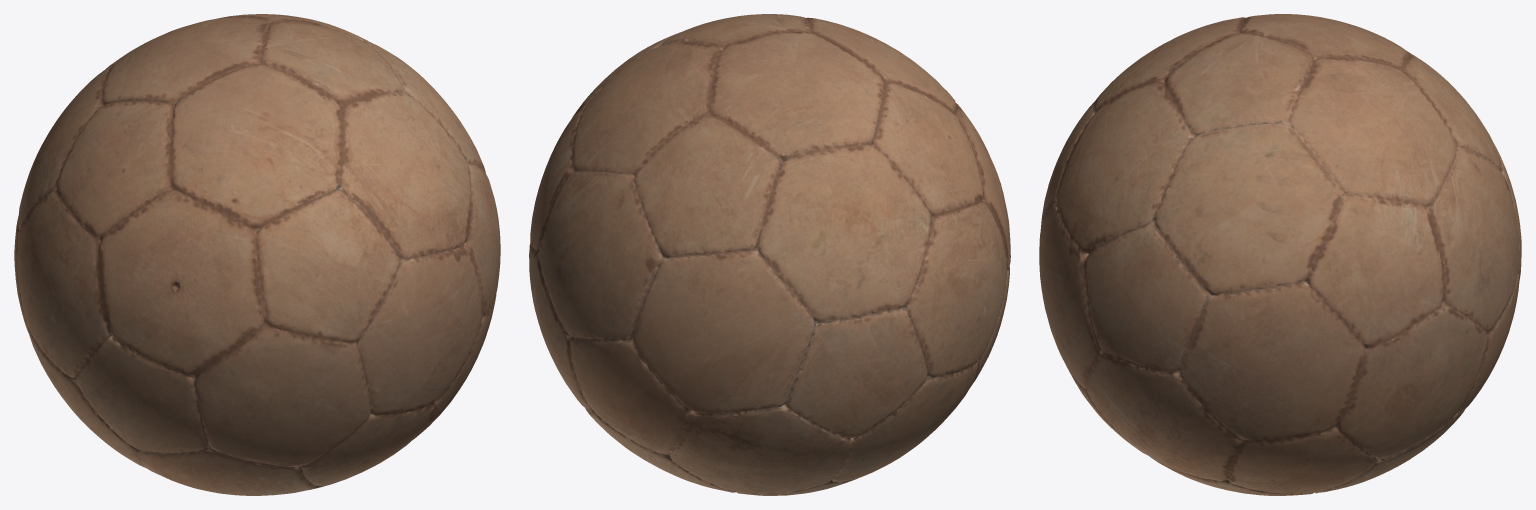
The model's file is dirty_football_8k.obj.
3 views of the same model, side by side, from view 1: azimuth 30°, elevation 25°; view 2: azimuth 150°, elevation 25°; view 3: azimuth 270°, elevation 25° (orthographic).
Parts seen in each view (by area): view 1: dirty_football_LOD0; view 2: dirty_football_LOD0; view 3: dirty_football_LOD0.
Part boxes in pixels (bbox=[...]): dirty_football_LOD0: bbox=[14, 14, 500, 495]; dirty_football_LOD0: bbox=[529, 14, 1010, 495]; dirty_football_LOD0: bbox=[1039, 14, 1521, 495].
Size of what is drawn, in the model's own units: 0.2214 by 0.22 by 0.22.
